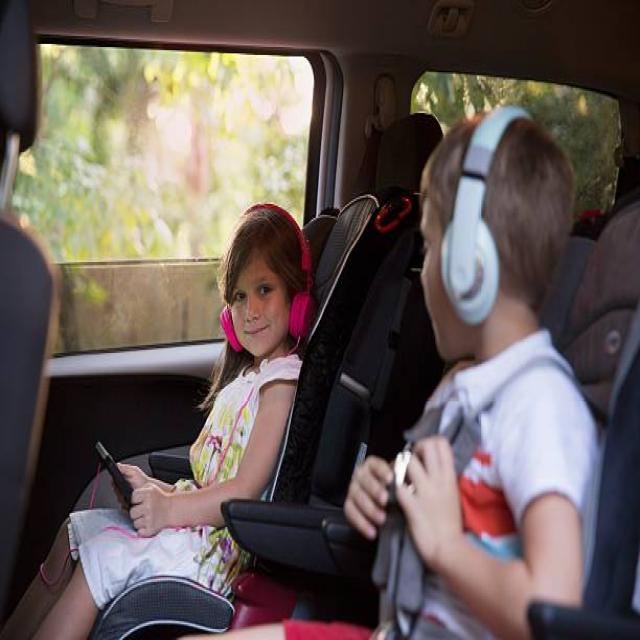Headphone: (439, 106, 533, 325), (219, 201, 314, 354)
